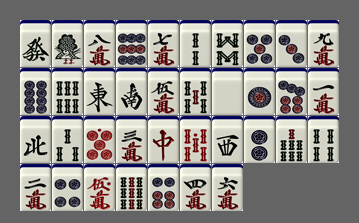0m: (84, 164, 115, 211)
0p: (84, 116, 115, 163)
0s: (180, 116, 211, 163)
1m: (308, 68, 339, 115)
1p: (244, 68, 275, 115)
1s: (52, 20, 83, 67)
1z: (84, 68, 115, 115)
2m: (20, 164, 51, 211)
2p: (244, 116, 275, 163)
2s: (180, 20, 211, 67)
2z: (116, 68, 147, 115)
3m: (116, 116, 147, 163)
3p: (276, 20, 307, 67)
3s: (52, 116, 83, 163)
3z: (212, 116, 243, 163)
4m: (180, 164, 211, 211)
4p: (52, 164, 83, 211)
4s: (308, 116, 339, 163)
4z: (20, 116, 51, 163)
5m: (148, 68, 179, 115)
5p: (244, 20, 275, 67)
5s: (180, 68, 211, 115)
5z: (212, 68, 243, 115)
6m: (212, 164, 243, 211)
6p: (148, 164, 179, 211)
6s: (52, 68, 83, 115)
6z: (20, 20, 51, 67)
7m: (148, 20, 179, 67)
7p: (276, 68, 307, 115)
7s: (276, 116, 307, 163)
7z: (148, 116, 179, 163)
8m: (84, 20, 115, 67)
8p: (20, 68, 51, 115)
8s: (212, 20, 243, 67)
9m: (308, 20, 339, 67)
9p: (116, 20, 147, 67)
9s: (116, 164, 147, 211)
